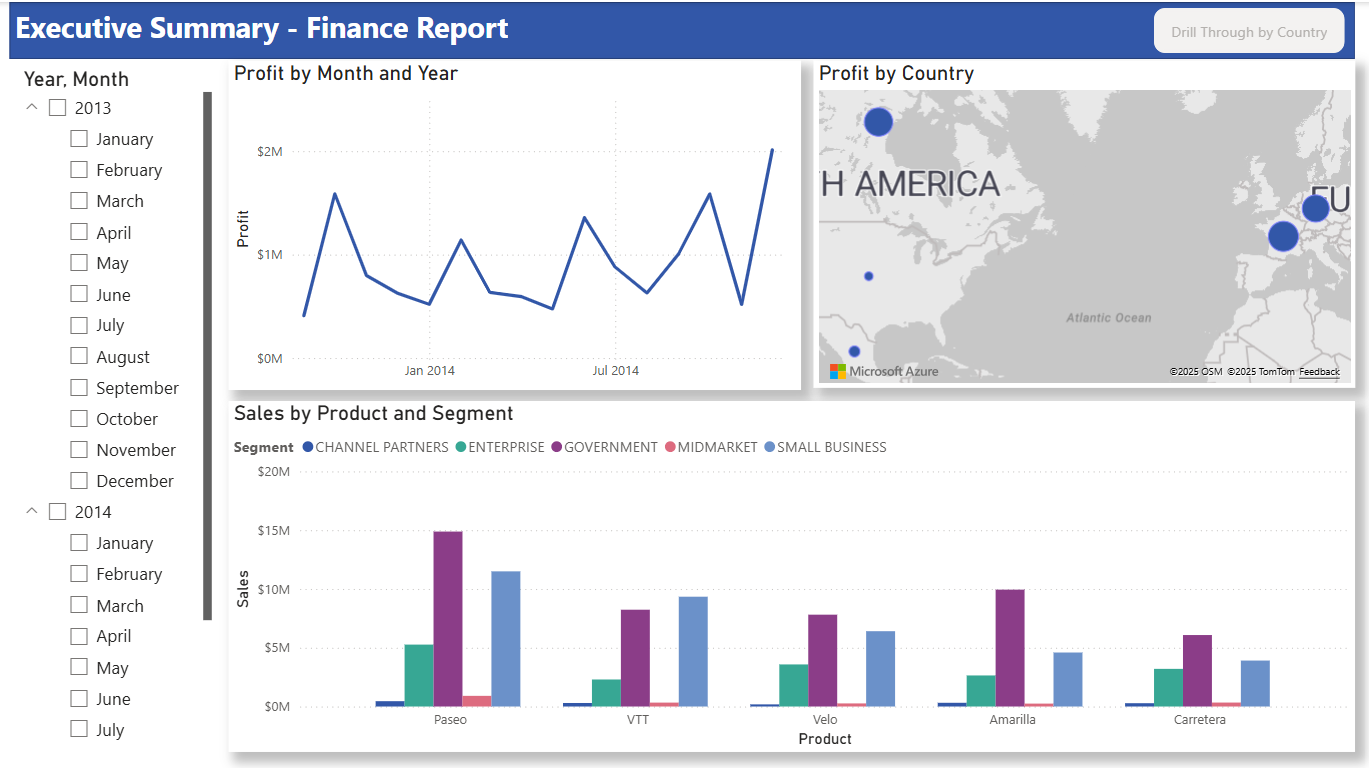

The dashboard page shown, as its layout file describes it:
{"tool":"powerbi","page":{"name":"Executive Summary","canvas":[1280,720],"ordinal":0},"visuals":[{"type":"shape","box":[9.8,0,1254.9,53.2],"z":0},{"type":"textbox","box":[9.8,0,1254.9,53.2],"z":1000},{"type":"lineChart","title":"Profit by Month and Year","fields":{"Y":["Sum(financials.Profit)"],"Category":["Calendar.Date.Variation.Date Hierarchy.Year","Calendar.Date.Variation.Date Hierarchy.Month"]},"box":[214.2,55.1,534,307.1],"z":2000},{"type":"azureMap","title":"Profit by Country","fields":{"Category":["financials.Country"],"Size":["Sum(financials.Profit)"]},"box":[759.2,55.1,505.6,305.6],"z":3000},{"type":"clusteredColumnChart","title":"Sales by Product and Segment","fields":{"Y":["Sum(financials.Sales)"],"Category":["financials.Product"],"Series":["financials.Segment"]},"box":[214.2,371.7,1050.6,327.6],"z":4000},{"type":"slicer","fields":{"Values":["Calendar.Date.Variation.Date Hierarchy.Year","Calendar.Date.Variation.Date Hierarchy.Month"]},"box":[9.5,55.1,193.7,644.2],"z":5000},{"type":"actionButton","box":[1077.2,5.6,177.7,42],"z":5001}]}

Visuals, with their boxes in screenshot pixels (x1, y1, x2, y2), scaled from the page's 1280x720 canvas onto the 1369x768 screenshot:
shape: bbox=[10, 0, 1353, 57]
textbox: bbox=[10, 0, 1353, 57]
"Profit by Month and Year" lineChart: bbox=[229, 59, 800, 386]
"Profit by Country" azureMap: bbox=[812, 59, 1353, 385]
"Sales by Product and Segment" clusteredColumnChart: bbox=[229, 396, 1353, 746]
slicer - Calendar.Date.Variation.Date Hierarchy.Year x Calendar.Date.Variation.Date Hierarchy.Month: bbox=[10, 59, 217, 746]
actionButton: bbox=[1152, 6, 1342, 51]
